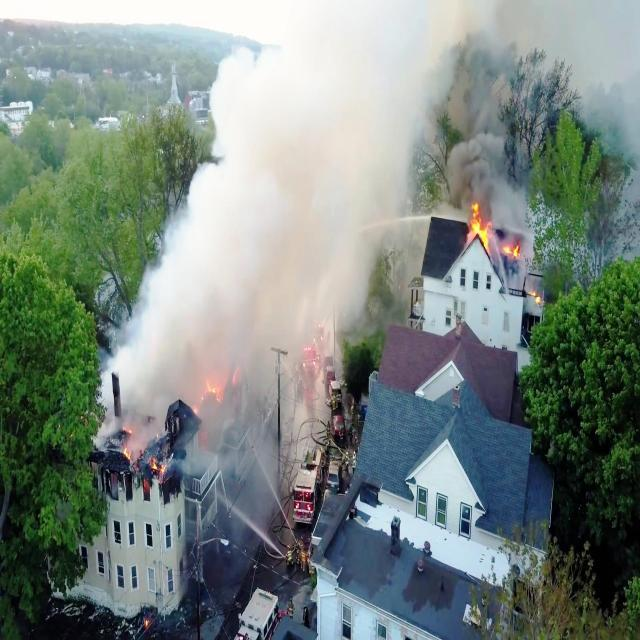Fire: (466, 200, 526, 262), (467, 198, 493, 258)
Smoke: (222, 0, 638, 188), (94, 324, 342, 493), (182, 182, 424, 322), (147, 236, 183, 316)
